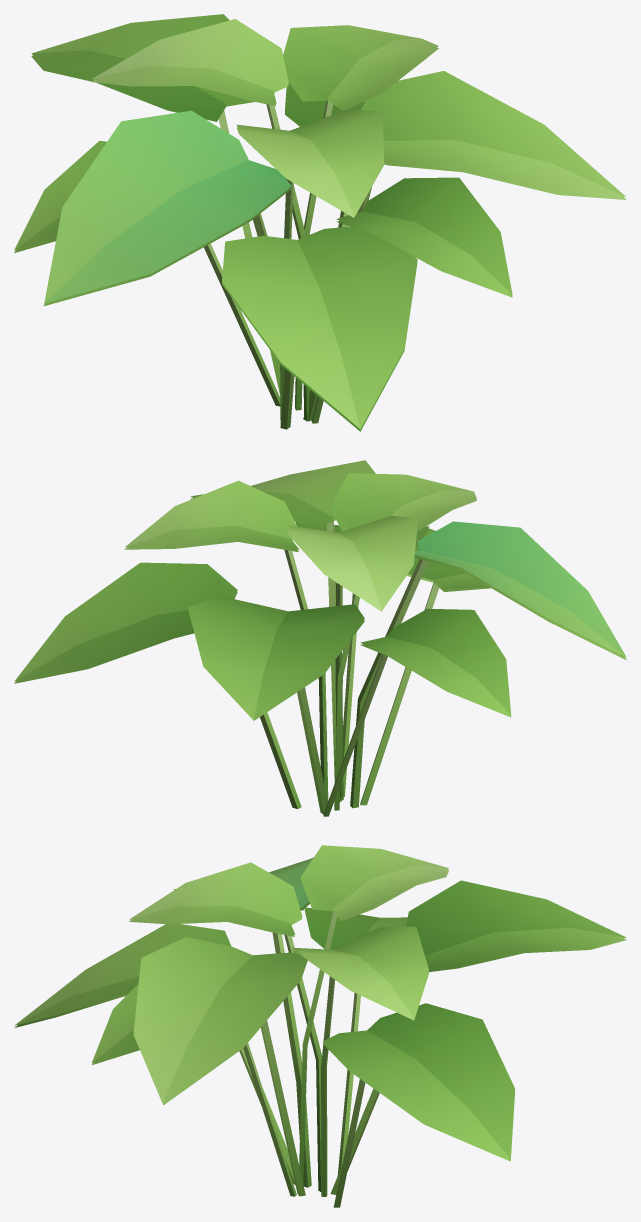
The model's file is SK_PlantC_001.FBX.
The picture shows the model from 3 angles, top to bottom: view 1: azimuth 30°, elevation 25°; view 2: azimuth 150°, elevation 25°; view 3: azimuth 270°, elevation 25°; orthographic projection. The views are drawn at different scales.
Visible parts, largest first — view 1: SK_PlantC_001; view 2: SK_PlantC_001; view 3: SK_PlantC_001.
Boxes of the visible parts, left/top/right/bottom form: SK_PlantC_001: left=14, top=14, right=626, bottom=431; SK_PlantC_001: left=14, top=460, right=626, bottom=816; SK_PlantC_001: left=14, top=845, right=626, bottom=1207.
Bounding box in the file's own units: 61.64 × 38.38 × 69.16.
Materials: 1 (1 with a texture image).
